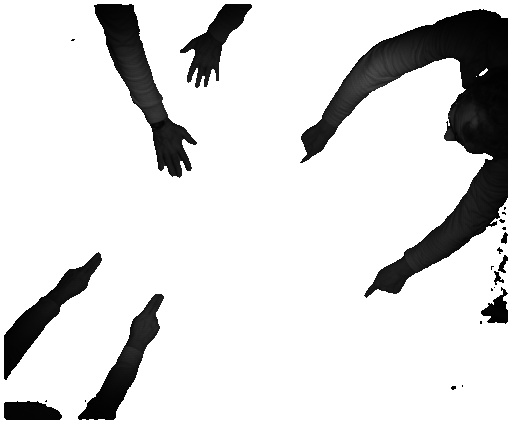hand: (152, 123, 199, 183), (176, 39, 227, 87), (57, 248, 103, 300), (132, 288, 167, 349), (360, 264, 408, 303), (296, 124, 329, 167)
